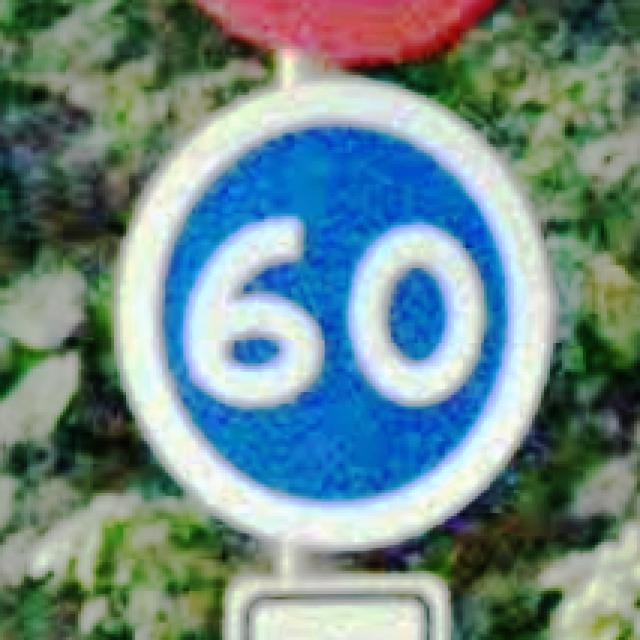min60: (108, 75, 556, 548)
